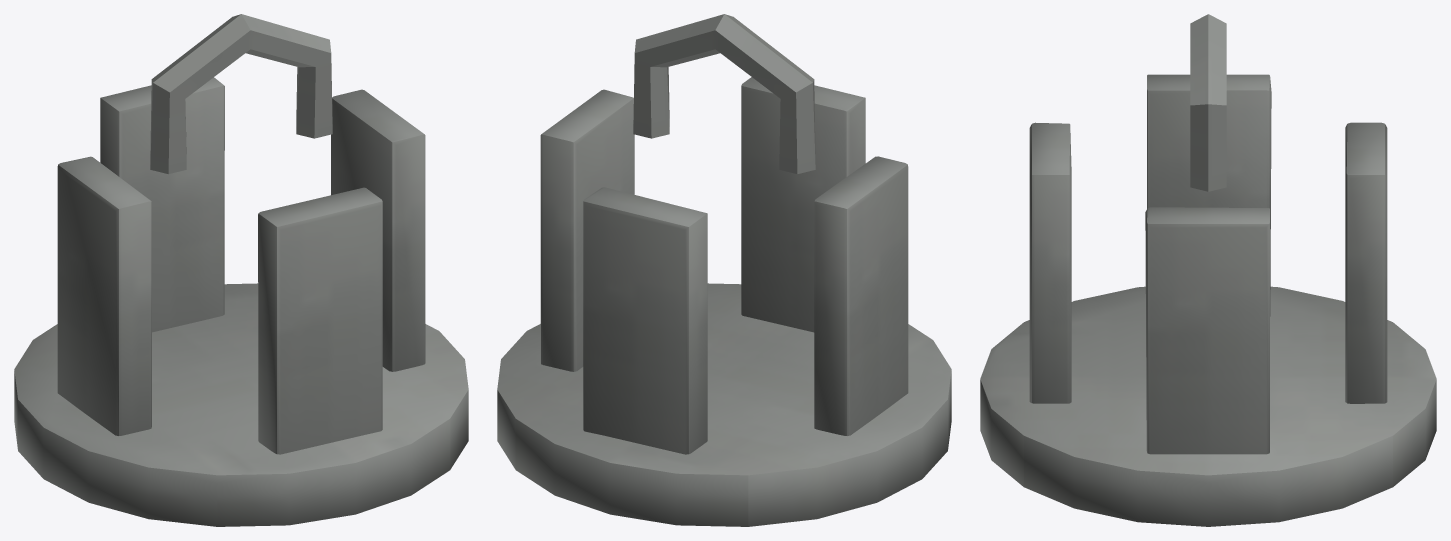
Rendered from EST-ARM-002_lod1.glb.
3 views of the same model, side by side, from view 1: azimuth 30°, elevation 25°; view 2: azimuth 150°, elevation 25°; view 3: azimuth 270°, elevation 25° (orthographic).
Parts seen in each view (by area): view 1: EST-ARM-002_base, EST-ARM-002_perna.003, EST-ARM-002_perna.002, EST-ARM-002_perna.001, EST-ARM-002_perna, EST-ARM-002_clipe; view 2: EST-ARM-002_base, EST-ARM-002_perna.001, EST-ARM-002_perna.002, EST-ARM-002_perna.003, EST-ARM-002_perna, EST-ARM-002_clipe; view 3: EST-ARM-002_base, EST-ARM-002_perna, EST-ARM-002_perna.002, EST-ARM-002_perna.001, EST-ARM-002_perna.003, EST-ARM-002_clipe.
Boxes of the visible parts, left/top/right/bottom form: EST-ARM-002_base: left=14, top=283, right=468, bottom=526; EST-ARM-002_perna.003: left=258, top=187, right=382, bottom=454; EST-ARM-002_perna.002: left=57, top=156, right=151, bottom=435; EST-ARM-002_perna.001: left=100, top=77, right=224, bottom=332; EST-ARM-002_perna: left=331, top=89, right=425, bottom=371; EST-ARM-002_clipe: left=150, top=14, right=332, bottom=174; EST-ARM-002_base: left=497, top=283, right=951, bottom=526; EST-ARM-002_perna.001: left=583, top=187, right=707, bottom=454; EST-ARM-002_perna.002: left=814, top=156, right=908, bottom=435; EST-ARM-002_perna.003: left=741, top=77, right=865, bottom=332; EST-ARM-002_perna: left=540, top=89, right=634, bottom=371; EST-ARM-002_clipe: left=633, top=14, right=815, bottom=174; EST-ARM-002_base: left=980, top=286, right=1436, bottom=526; EST-ARM-002_perna: left=1145, top=207, right=1269, bottom=454; EST-ARM-002_perna.002: left=1147, top=74, right=1271, bottom=316; EST-ARM-002_perna.001: left=1345, top=122, right=1387, bottom=403; EST-ARM-002_perna.003: left=1029, top=122, right=1071, bottom=403; EST-ARM-002_clipe: left=1190, top=14, right=1226, bottom=191.
Size of the model in its own units: 0.0437 by 0.044 by 0.0434.
Materials: 1 (1 with a texture image).
